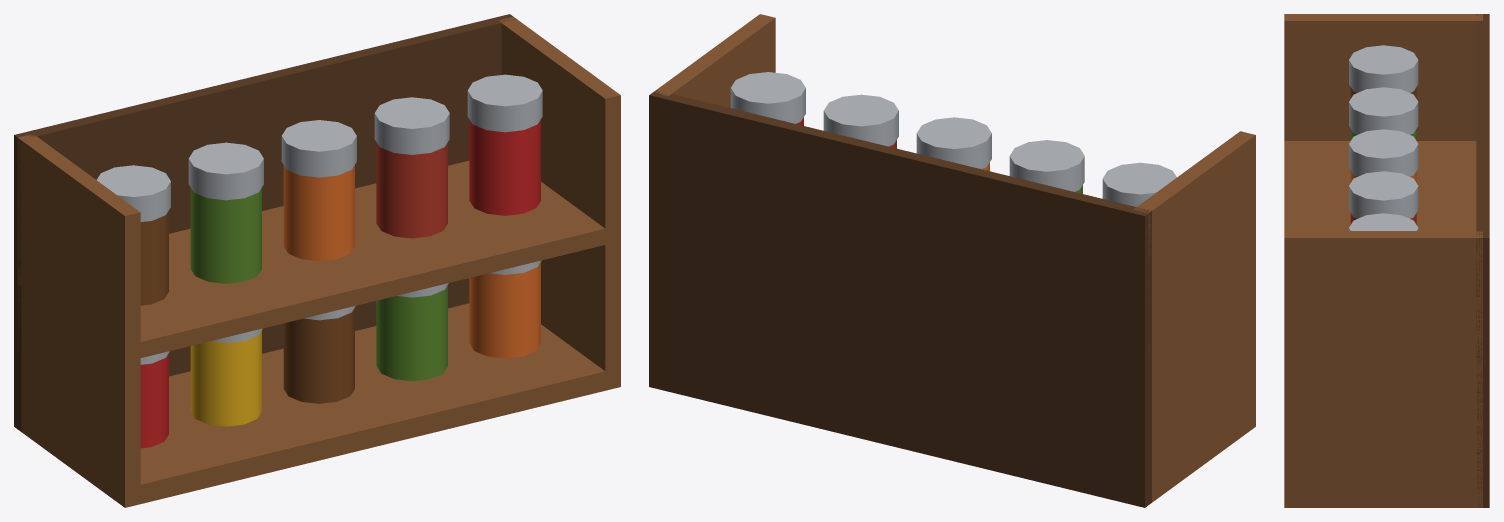
File: spice_rack.glb
The picture shows the model from 3 angles, left to right: view 1: azimuth 30°, elevation 25°; view 2: azimuth 150°, elevation 25°; view 3: azimuth 270°, elevation 25°; orthographic projection. The views are drawn at different scales.
Parts seen in each view (by area): view 1: spice_rack; view 2: spice_rack; view 3: spice_rack.
Part boxes in pixels (<box>): spice_rack: <box>14,14,620,507</box>; spice_rack: <box>649,14,1255,507</box>; spice_rack: <box>1284,14,1489,507</box>.
Bounding box in the file's own units: 1.6 × 0.9 × 0.62.
